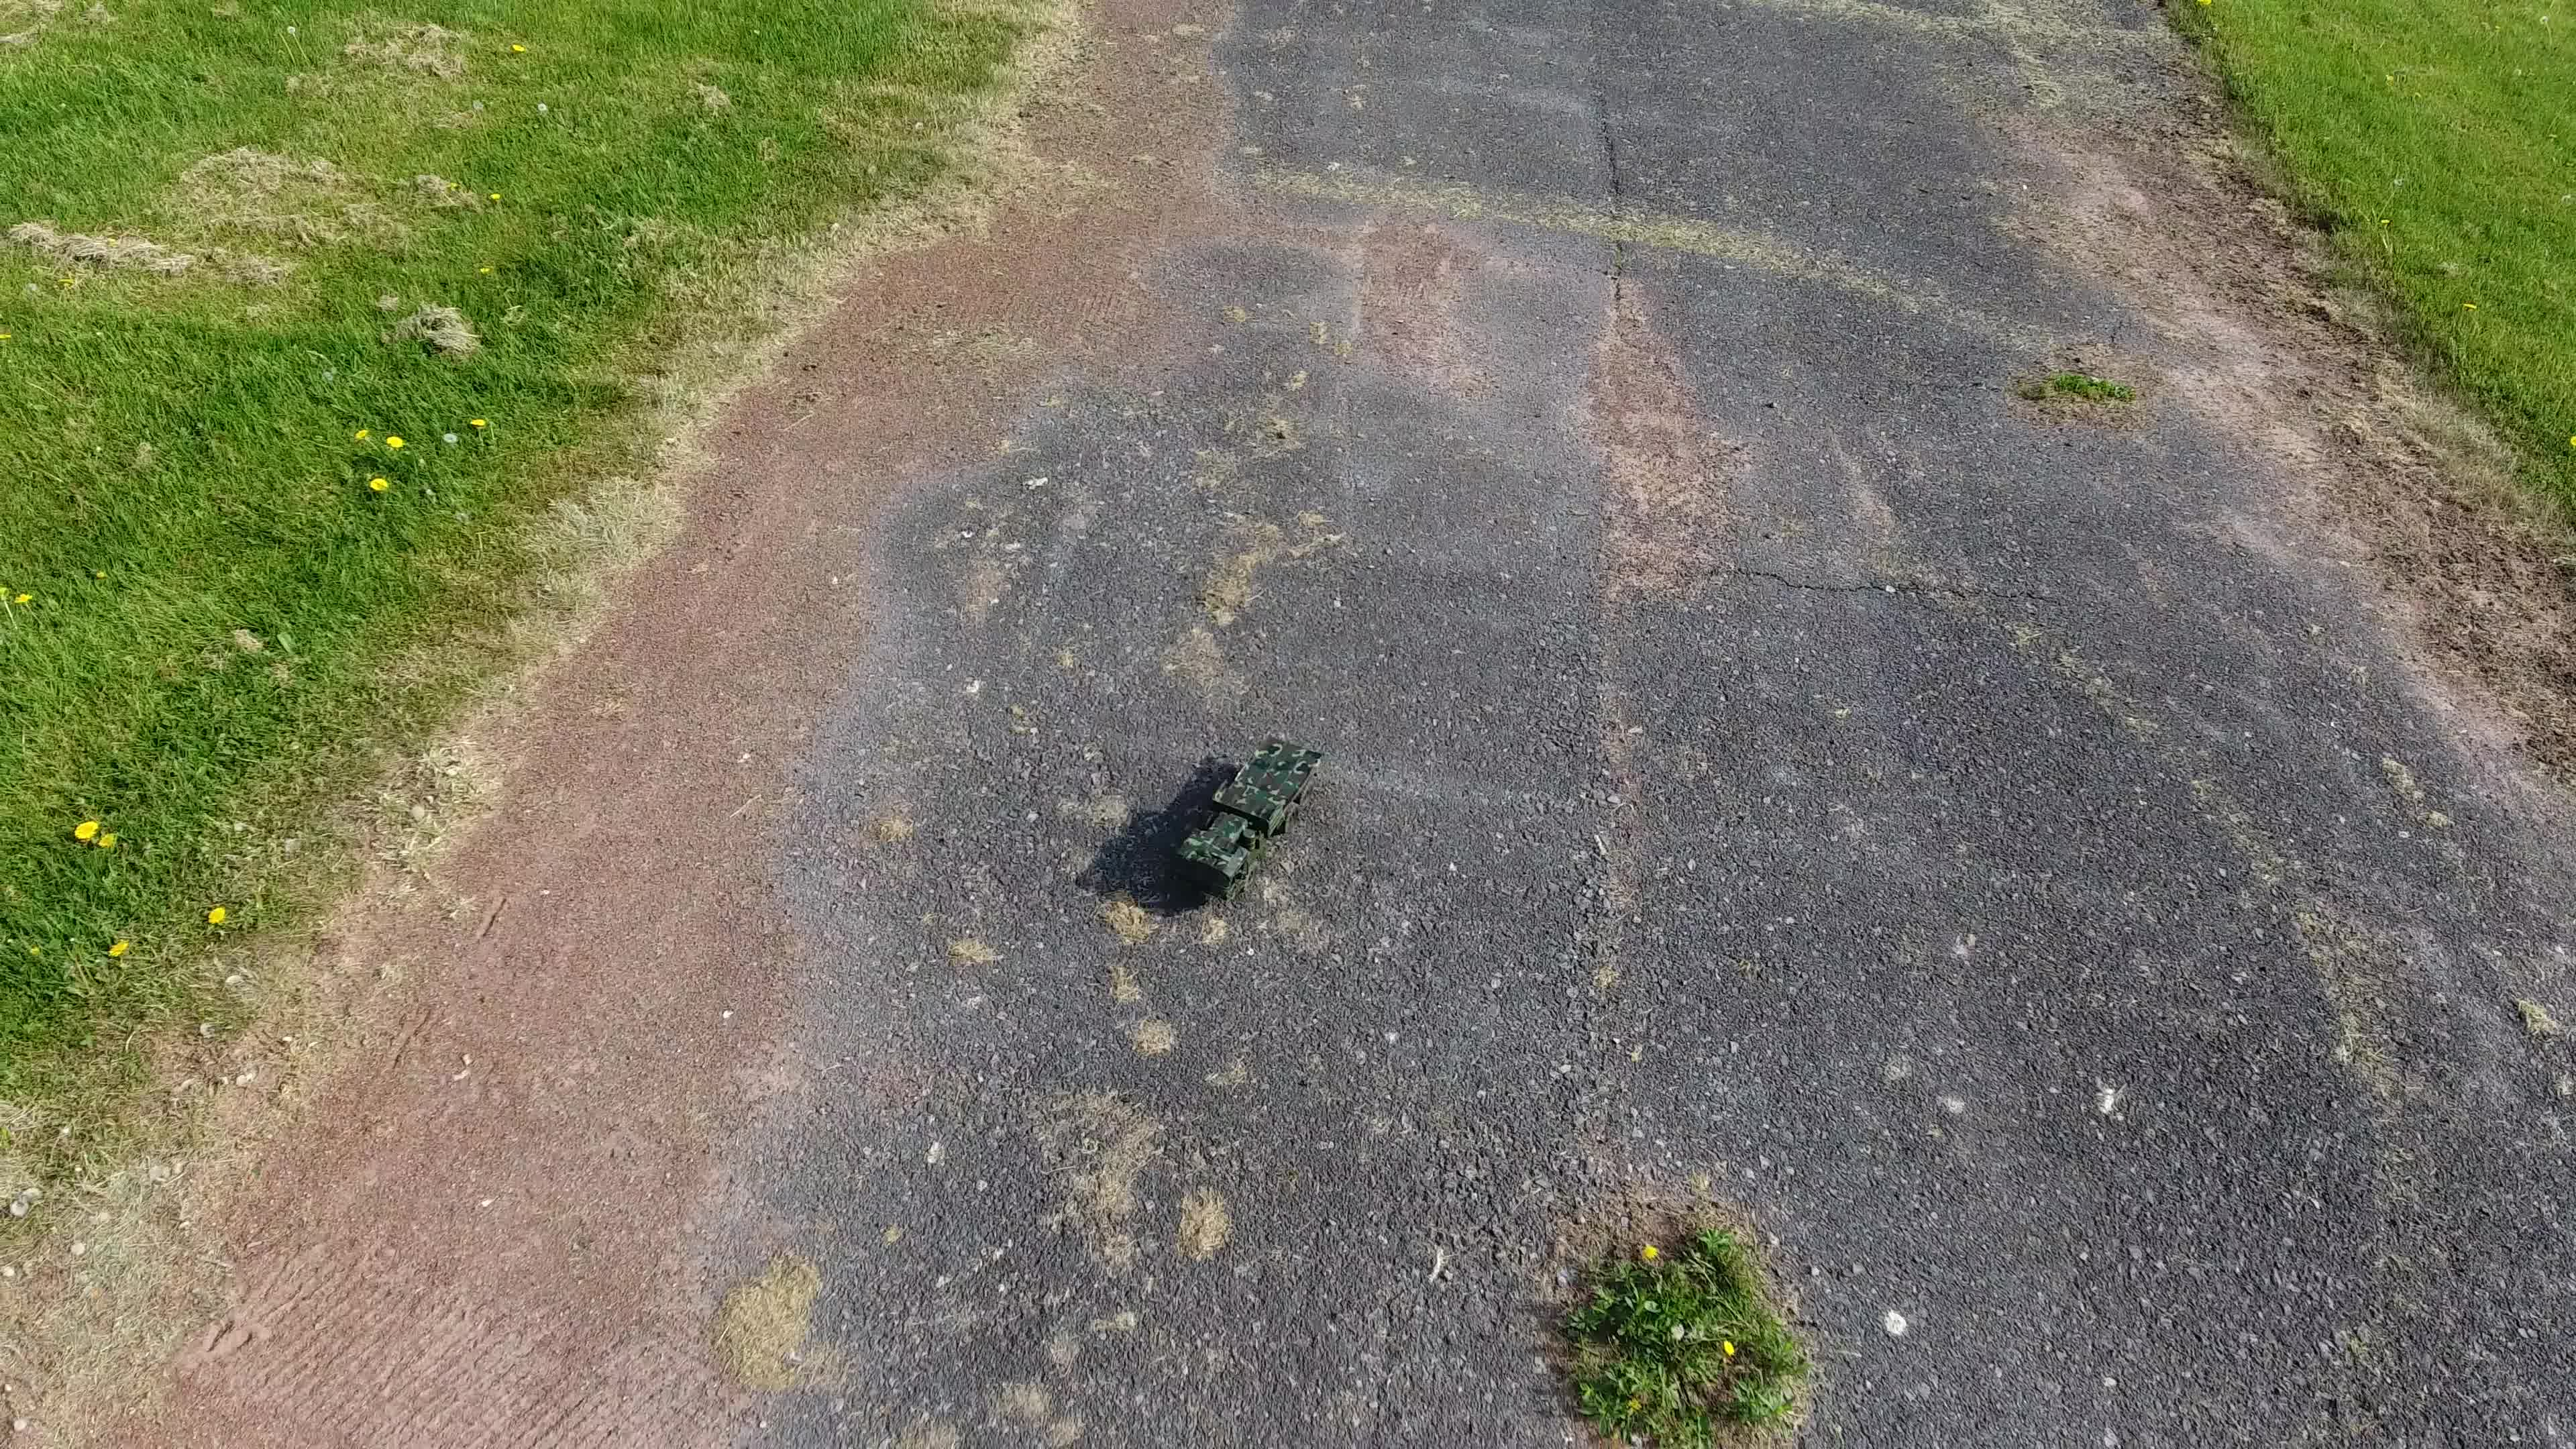transporter9: (1155, 729, 1327, 902)
